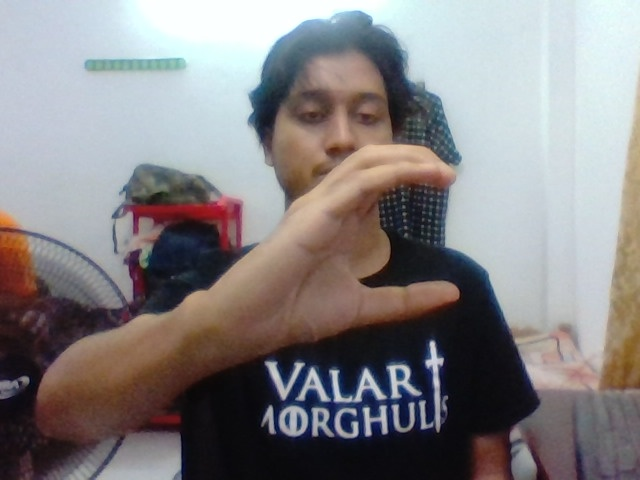C: (251, 116, 478, 370)
